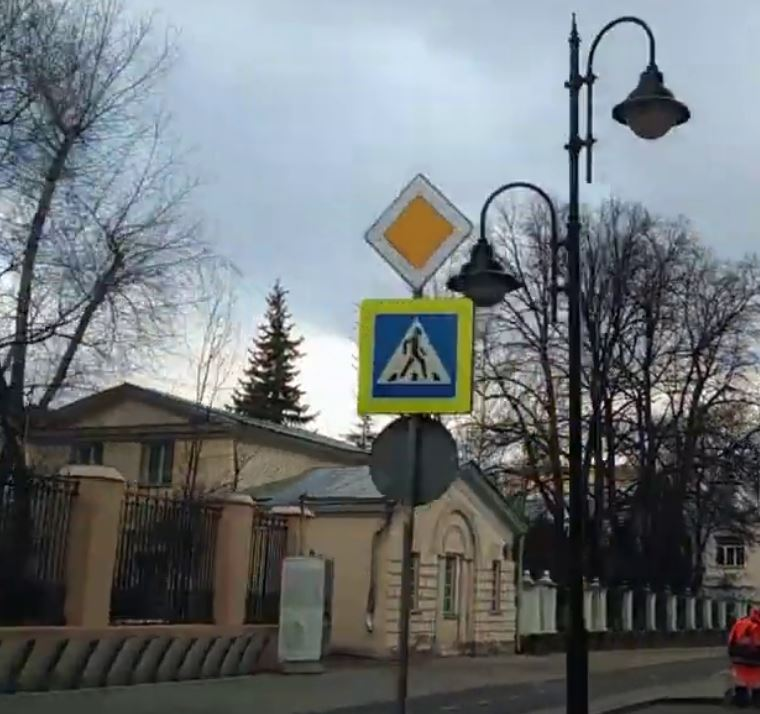Yaya Gecidi: (375, 310, 454, 403)
